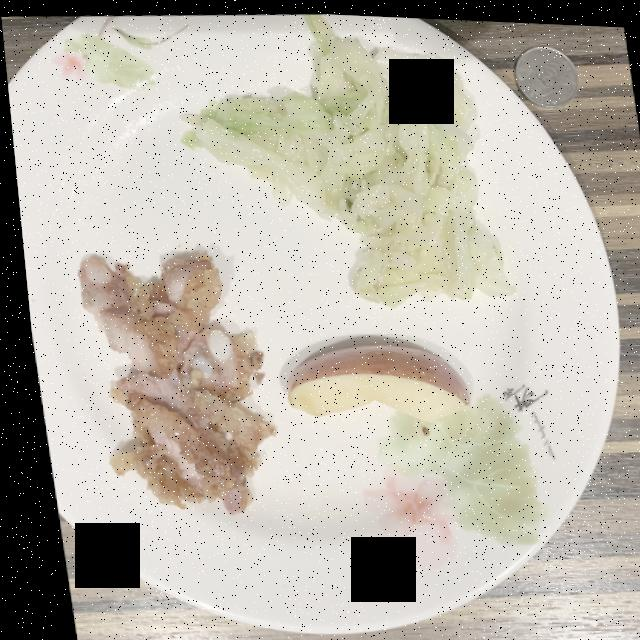apple -sliced-: (279, 341, 462, 417)
cabbage: (179, 11, 508, 303)
coin: (514, 41, 577, 101)
red grilled pork: (72, 249, 267, 511)
